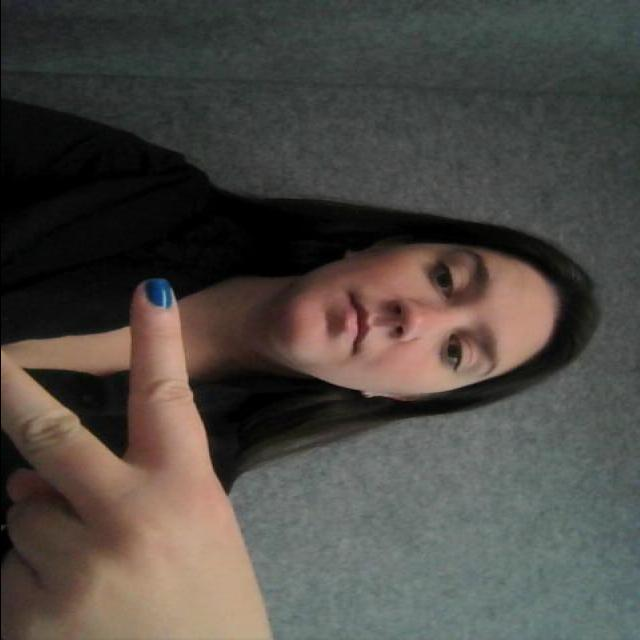Scissors: (0, 278, 218, 618)
